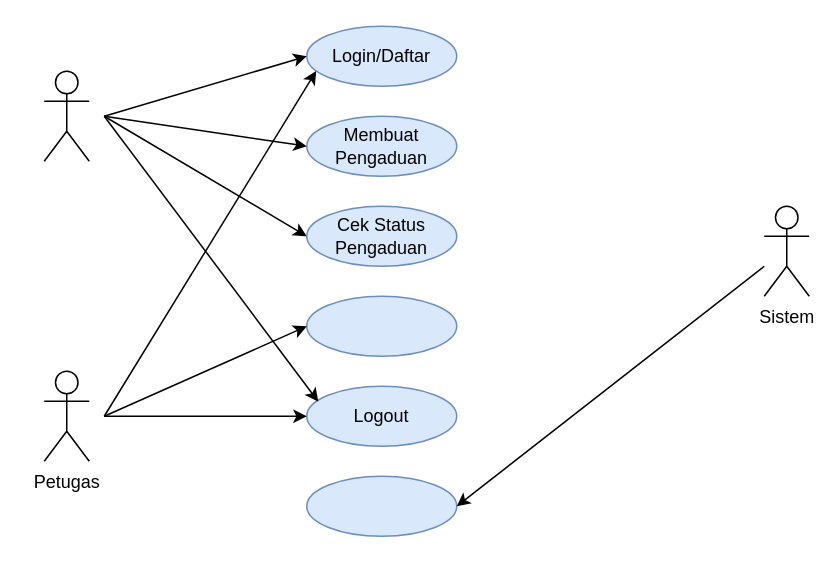
The diagram is 840 pixels wide and 563 high, and some of its shapes have lost their labels. The centre of each missing label's shape, as x and y in pixels:
"Melihat Daftar Pengaduan" goes at point 381,325.
"Menyimpan" goes at point 381,505.
"Pengguna" goes at point 66,115.
